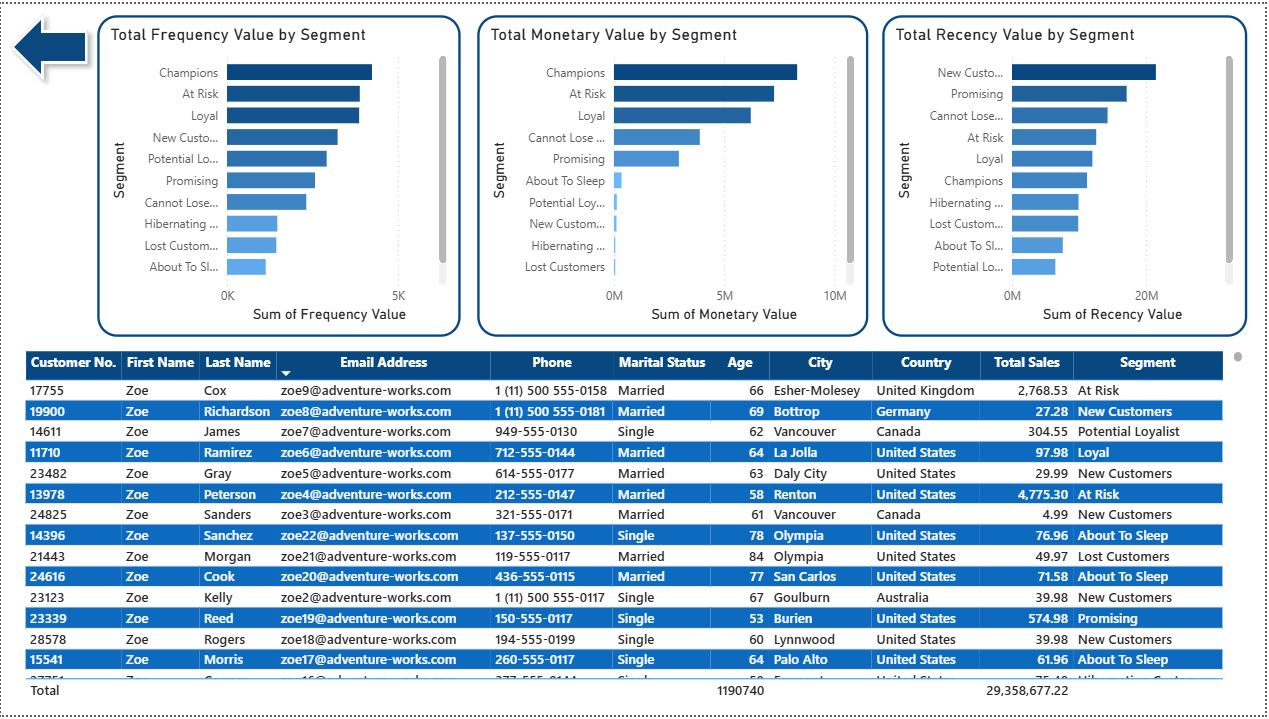

This screenshot's page, from the dashboard's own definition file:
{"tool":"powerbi","page":{"name":"Dashboard 2","canvas":[1280,720],"ordinal":1},"visuals":[{"type":"clusteredBarChart","title":"Total Recency Value by Segment","fields":{"Y":["Sum(RFM Table.Recency Value)"],"Category":["Segment Description.Segment"]},"box":[5.1,386.1,398.7,325.3],"z":0},{"type":"clusteredBarChart","title":"Total Frequency Value by Segment","fields":{"Y":["Sum(RFM Table.Frequency Value)"],"Category":["Segment Description.Segment"]},"box":[424.1,386.1,422.8,325.3],"z":1000},{"type":"clusteredBarChart","title":"Total Monetary Value by Segment","fields":{"Y":["Sum(RFM Table.Monetary Value)"],"Category":["Segment Description.Segment"]},"box":[864.6,386.1,398.7,325.3],"z":2000},{"type":"tableEx","fields":{"Values":["DimCustomer.CustomerKey","DimCustomer.FirstName","DimCustomer.LastName","DimCustomer.EmailAddress","DimCustomer.Phone","DimCustomer.MaritalStatus","Sum(DimCustomer.Age)","DimGeography.City","DimGeography.Country","Sum(FactInternetSales.SalesAmount)","Segment Description.Segment"]},"box":[16.5,12.7,1238,360.8],"z":3000}]}

Visuals, with their boxes in screenshot pixels (x1, y1, x2, y2), scaled from the page's 1280x720 canvas onto the 1269x719 screenshot:
"Total Recency Value by Segment" clusteredBarChart: [x1=5, y1=386, x2=400, y2=710]
"Total Frequency Value by Segment" clusteredBarChart: [x1=420, y1=386, x2=840, y2=710]
"Total Monetary Value by Segment" clusteredBarChart: [x1=857, y1=386, x2=1252, y2=710]
tableEx - DimCustomer.CustomerKey x DimCustomer.FirstName: [x1=16, y1=13, x2=1244, y2=373]
